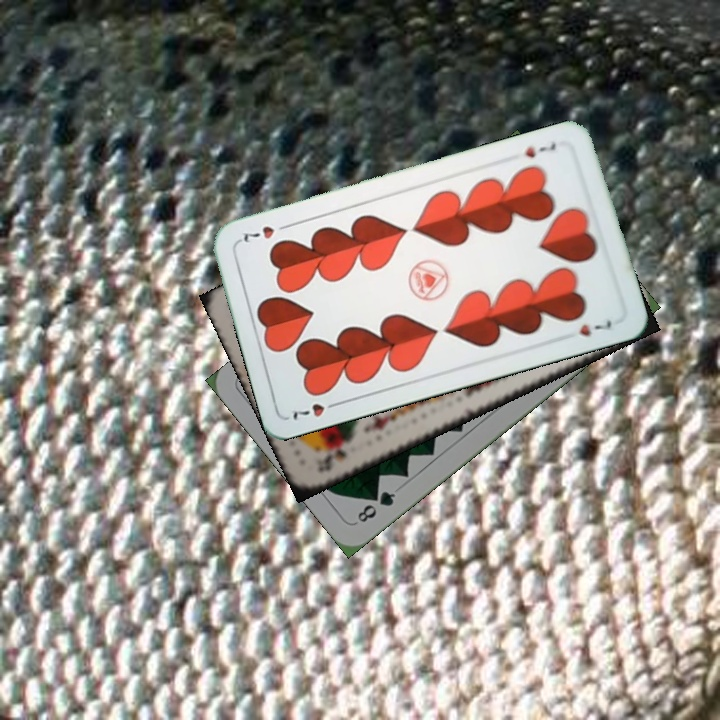G8: (353, 486, 399, 526)
H7: (288, 397, 344, 422), (520, 139, 559, 161)
SK: (312, 441, 350, 475)
